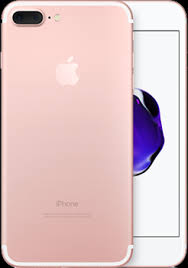iphone: (1, 1, 136, 268)
iphone7: (1, 1, 188, 268)
